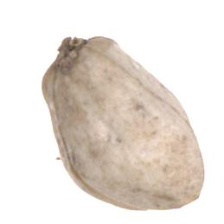L1: (46, 34, 89, 68), (118, 199, 206, 213)
L2: (41, 36, 205, 211)
